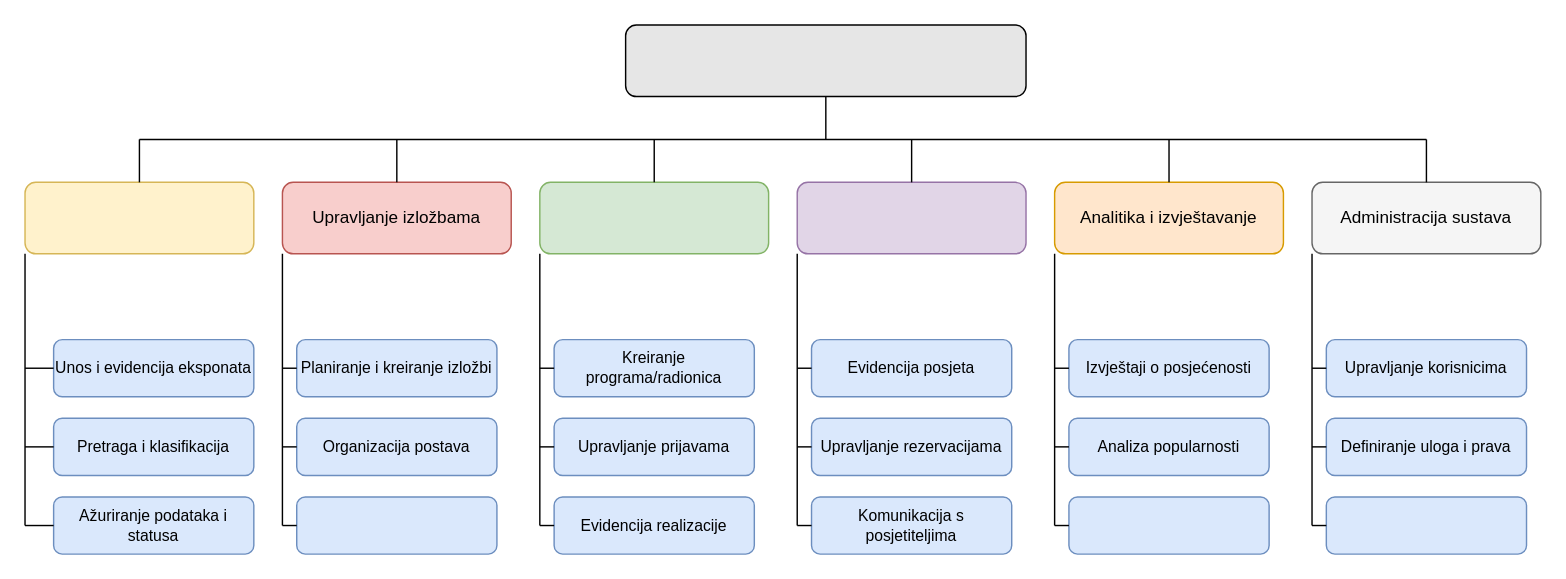
The diagram is 1566 pixels wide and 579 high, and some of its shapes have lost their labels. Each missing label, with the centre of its shape:
"Arhiviranje izložbi" belongs at point (396, 524).
"Izrada statistika" belongs at point (1168, 524).
"Konfiguracija sustava" belongs at point (1426, 524).
"Tehnički muzej" belongs at point (825, 60).
"Upravljanje edukacijskim programima" belongs at point (653, 217).
"Upravljanje eksponatima" belongs at point (139, 217).
"Upravljanje posjetiteljima i rezervacijama" belongs at point (911, 217).
